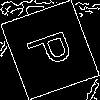P: (25, 25, 83, 72)
